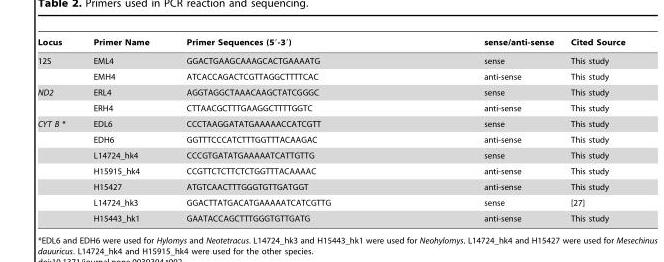table: (37, 37, 624, 222)
table column: (167, 37, 406, 222), (406, 37, 561, 222), (78, 37, 167, 222), (561, 37, 624, 222), (37, 37, 78, 222)
table column header: (37, 37, 624, 51)
table row: (37, 51, 624, 68), (37, 68, 624, 84), (37, 84, 624, 100), (37, 115, 624, 131), (37, 131, 624, 147), (37, 147, 624, 163), (37, 178, 624, 194), (37, 194, 624, 210), (37, 100, 624, 115), (37, 163, 624, 178), (37, 37, 624, 51), (37, 210, 624, 222)
table spanning cell: (37, 115, 78, 222), (37, 51, 78, 84), (37, 84, 78, 115)
